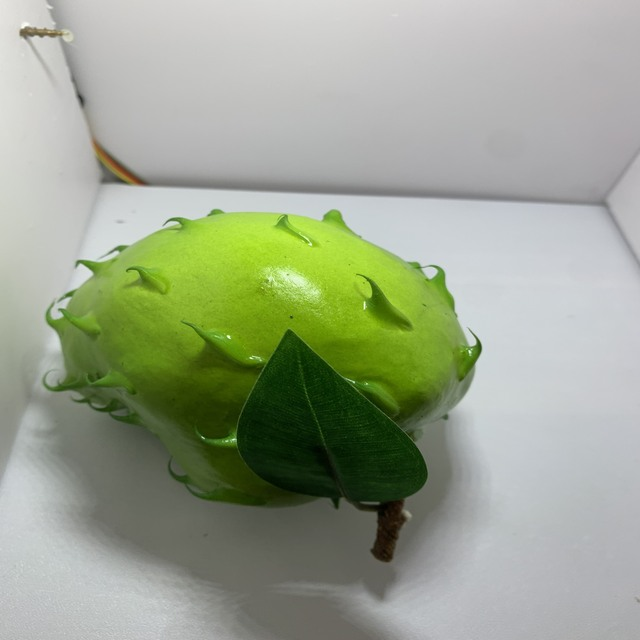Man cau: (39, 205, 491, 515)
